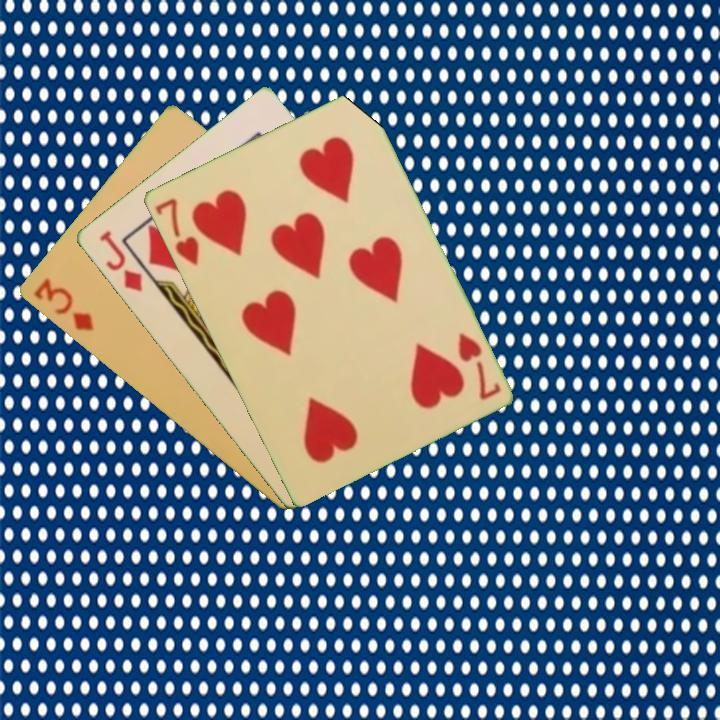3d: (30, 274, 97, 334)
7h: (151, 194, 202, 269), (453, 329, 504, 403)
Jd: (94, 227, 145, 295)
